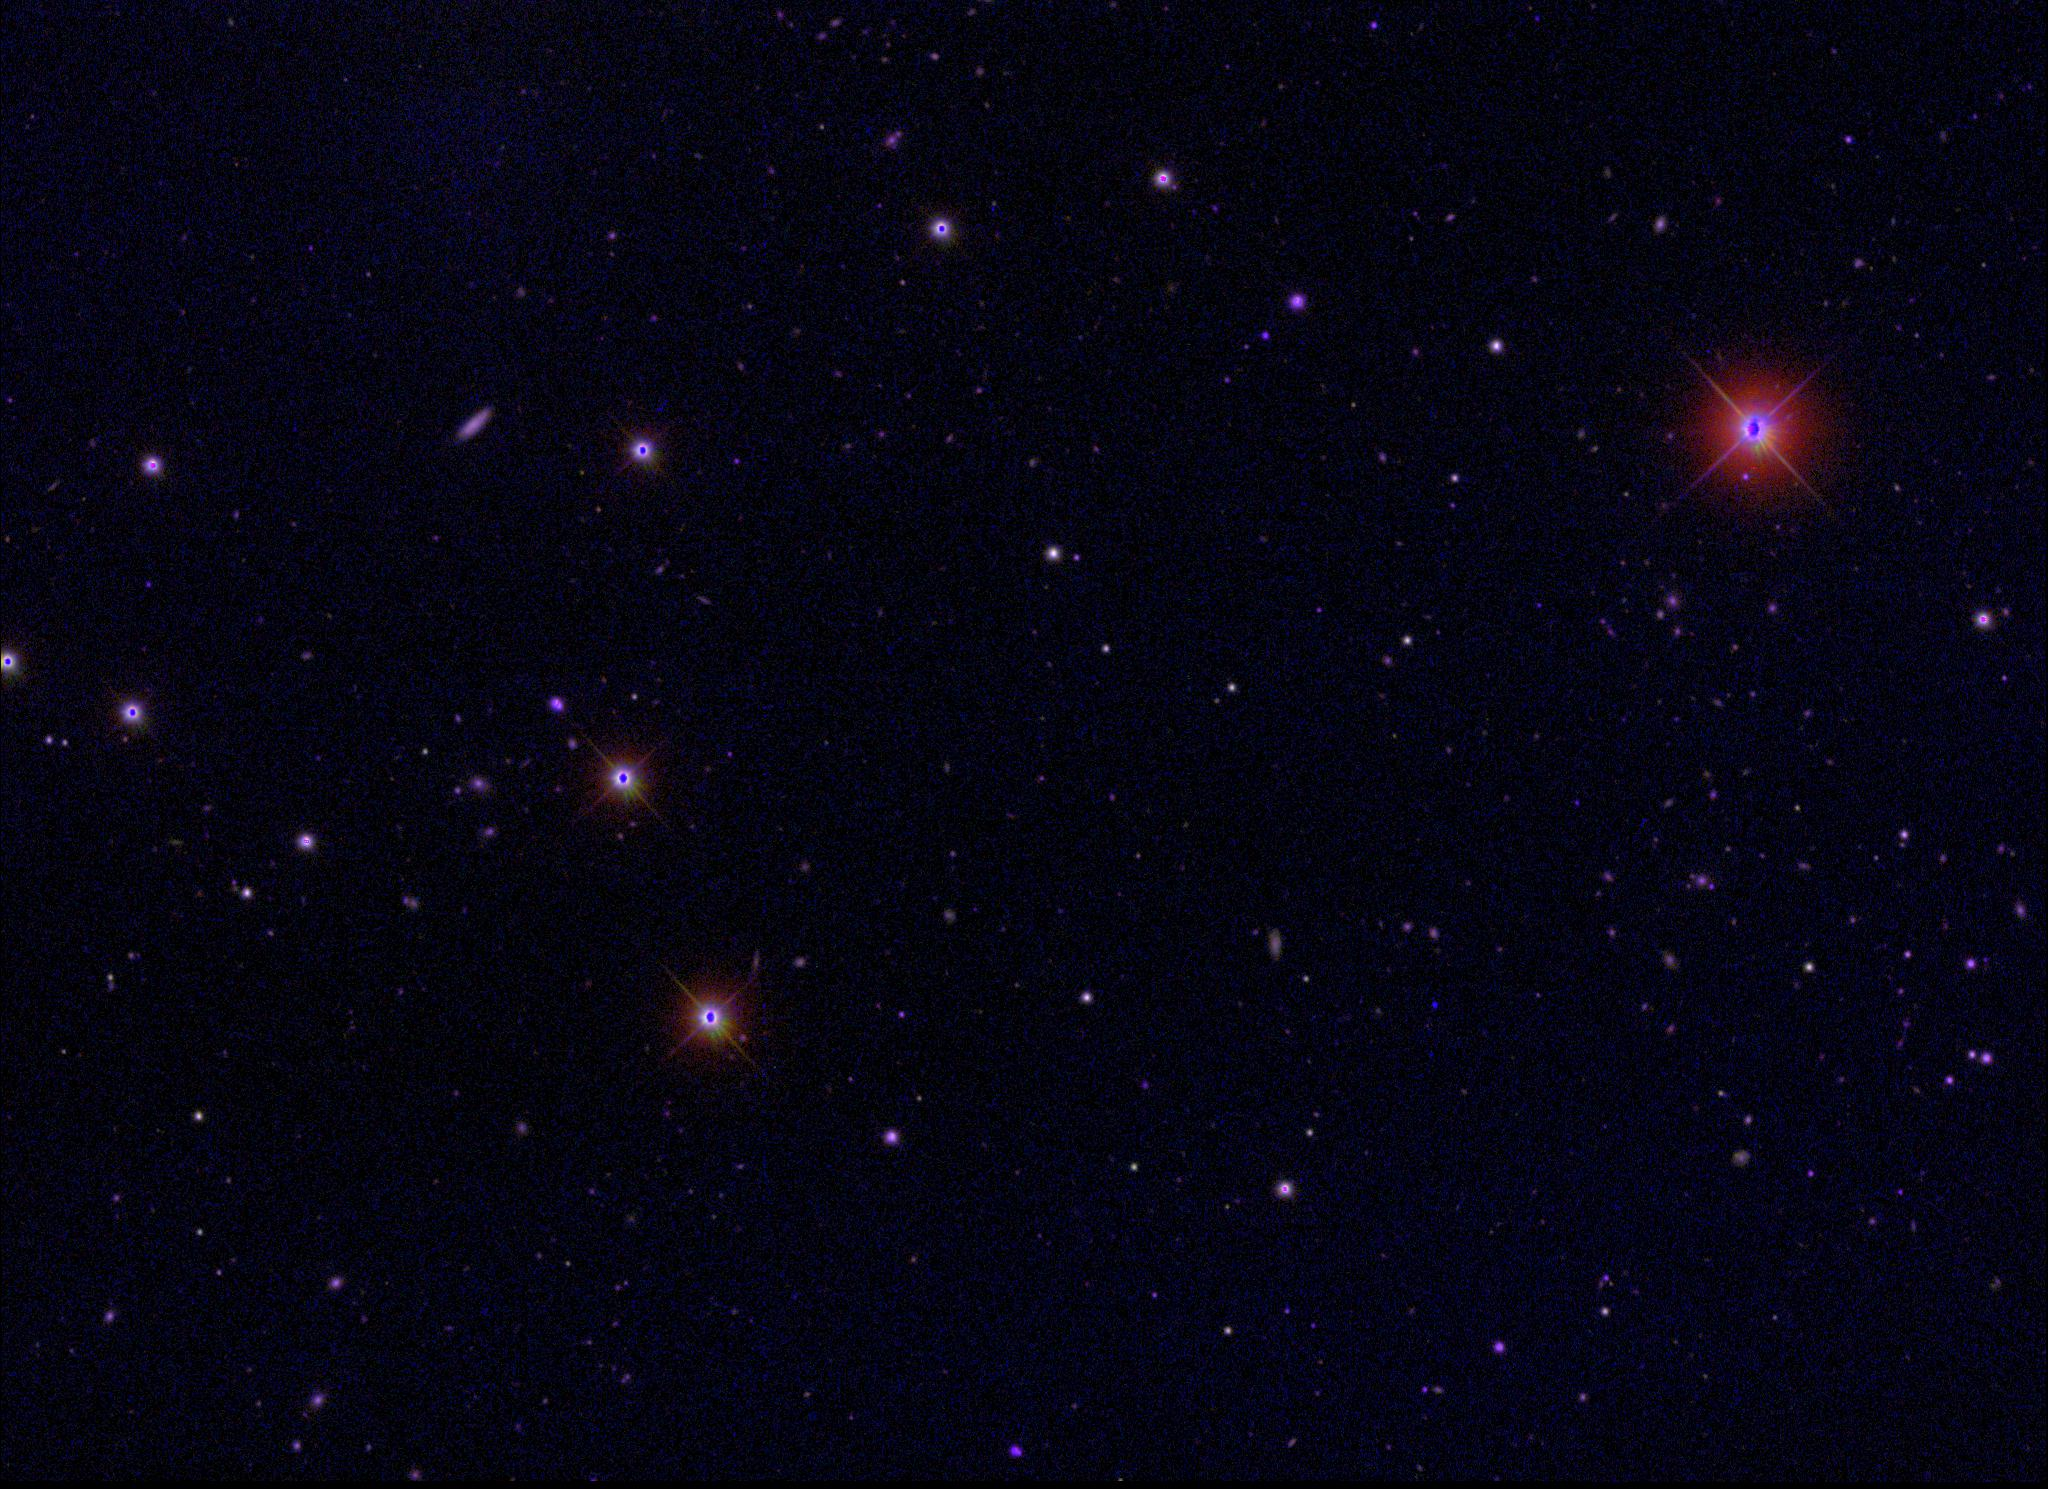L: (1426, 994, 1441, 1009)
